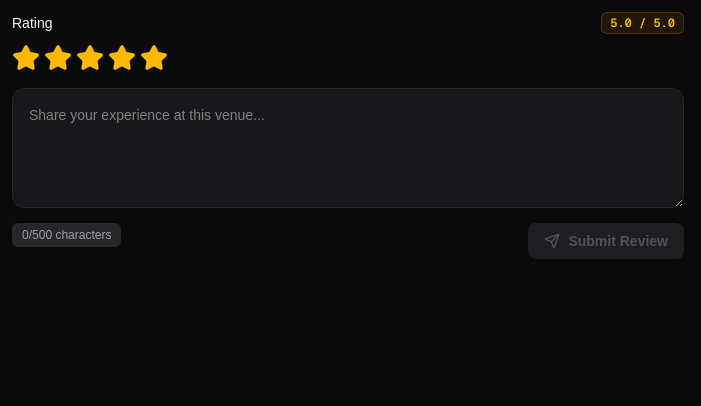
Test case: VenueReviewForm Star Rating › Offline Draft Caching & Optimistic UI (#6489) › optimistically renders pending review with amber sync icon when offline
Type "Offline subway review" into the text box with placeholder "Share your experience at this venue...".
click(348, 148); type("Offline subway review")  # box left=12, top=88, right=684, bottom=208
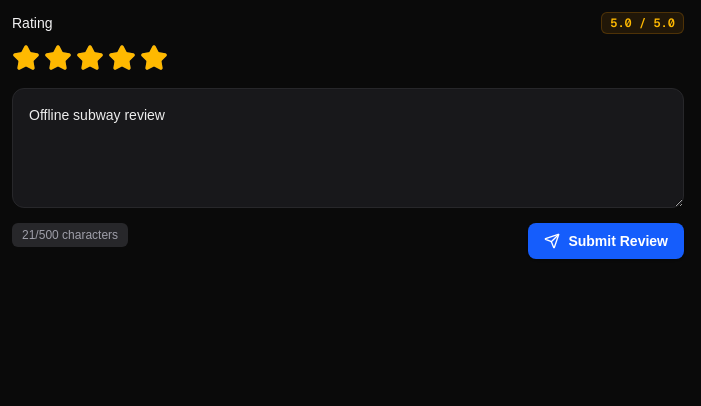
Click the button "Submit Review".
click(606, 241)  # box left=528, top=223, right=684, bottom=259
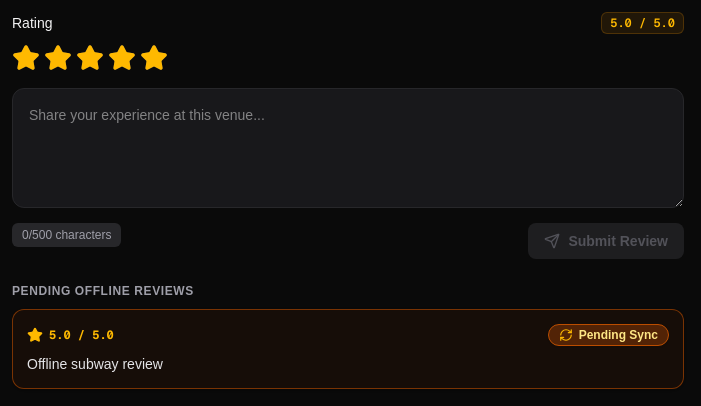
Expected: the element with test id "pending-reviews-feed" is shown, left=12, top=275, right=684, bottom=389
Expected: the text "Pending Sync" is shown, left=548, top=324, right=669, bottom=346
Expected: the text "Offline subway review" is shown, left=27, top=356, right=163, bottom=372
